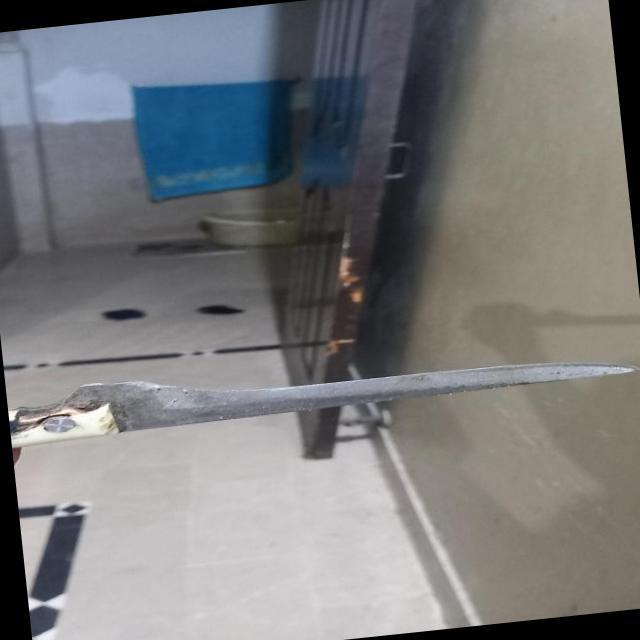Knife: (5, 321, 640, 456)
